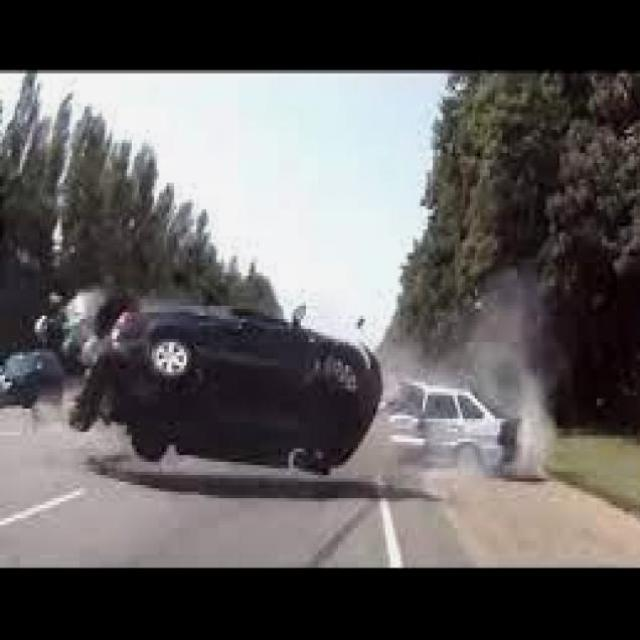accident: (64, 292, 380, 488)
